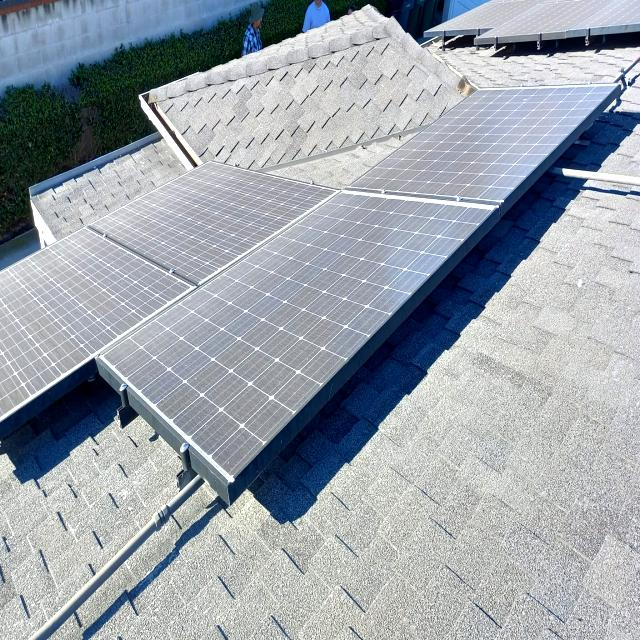dust: (158, 305, 276, 403), (250, 248, 384, 306), (358, 188, 448, 258), (6, 274, 138, 320), (150, 198, 250, 246), (466, 98, 530, 166), (266, 198, 340, 236), (420, 131, 456, 182)
